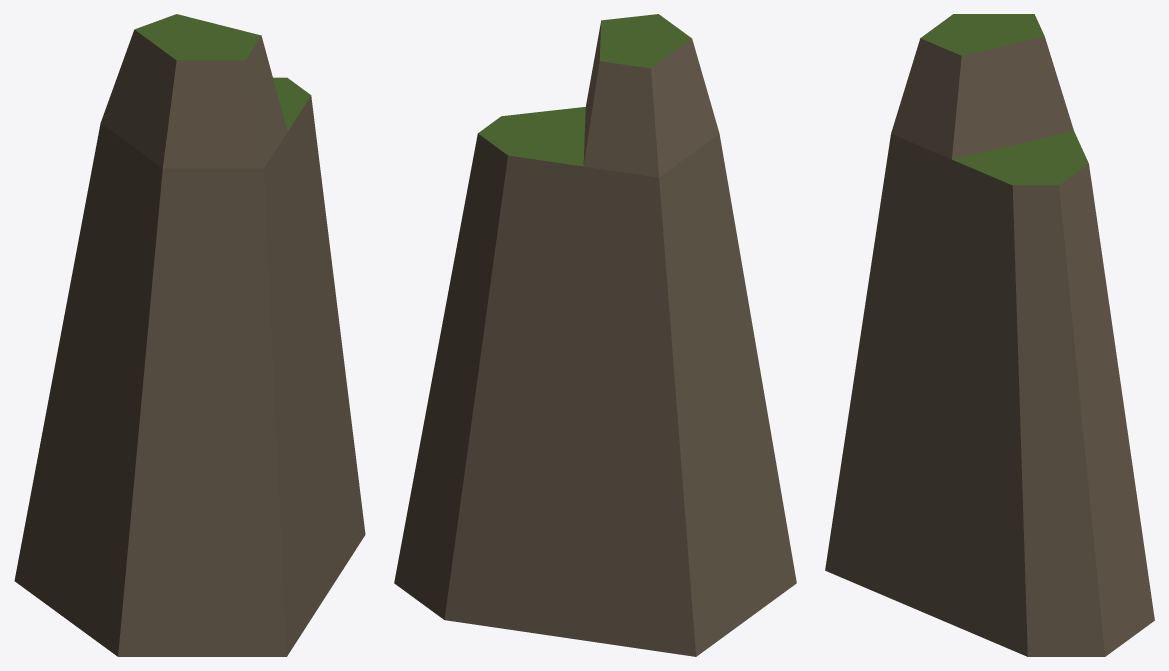
Rendered from rock_tall_c.glb.
3 views of the same model, side by side, from view 1: azimuth 30°, elevation 25°; view 2: azimuth 150°, elevation 25°; view 3: azimuth 270°, elevation 25° (orthographic). The views are drawn at different scales.
Visible parts, largest first — view 1: rock_tallC; view 2: rock_tallC; view 3: rock_tallC.
Part boxes in pixels (x1,y1,x2,y2): rock_tallC: (14,14,365,656); rock_tallC: (394,14,796,656); rock_tallC: (825,14,1154,656).
Size of the model in its own units: 0.4562 by 0.7829 by 0.4365.
